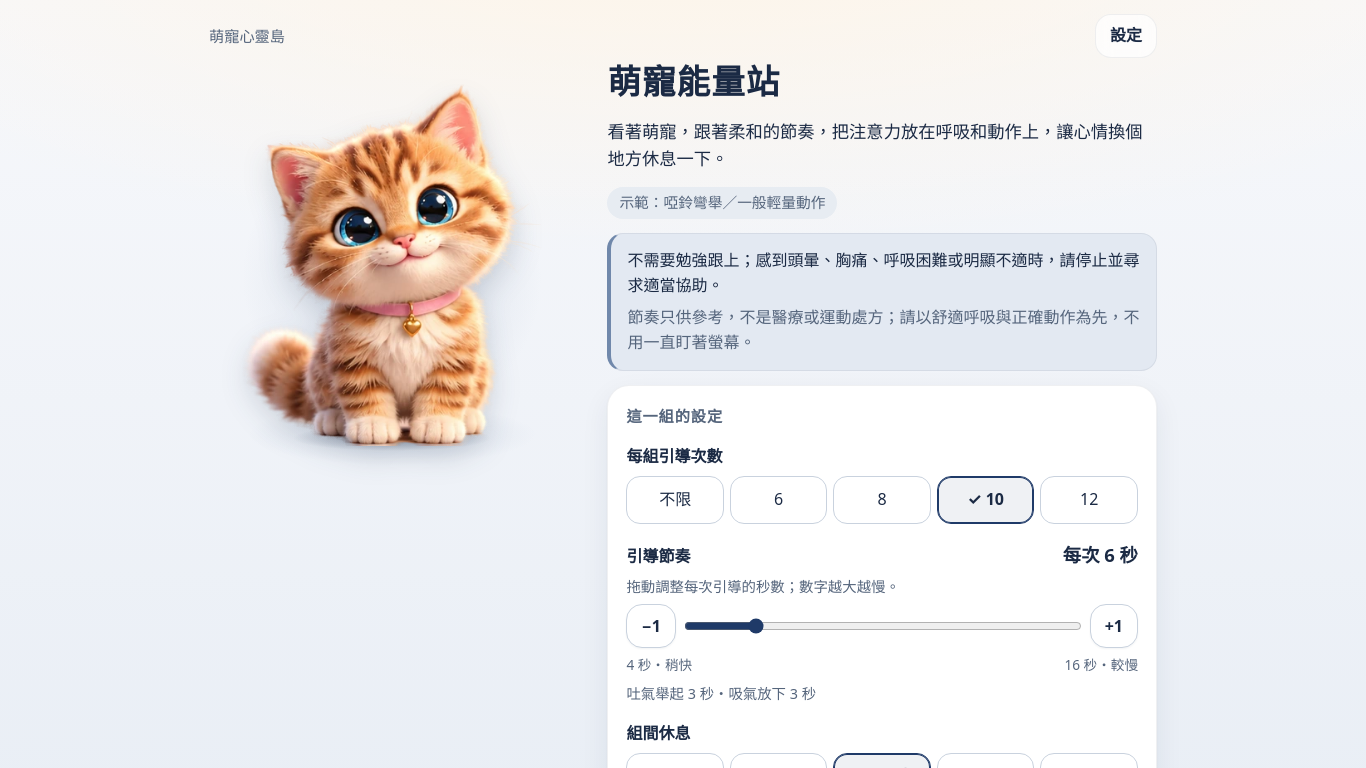
萌寵能量站：手指調整節奏 › −1／+1 秒按鈕一次調一格，到上下限時停用
Click the button named "增加 1 秒".
click(1114, 626)  # box [1090,604,1138,648]
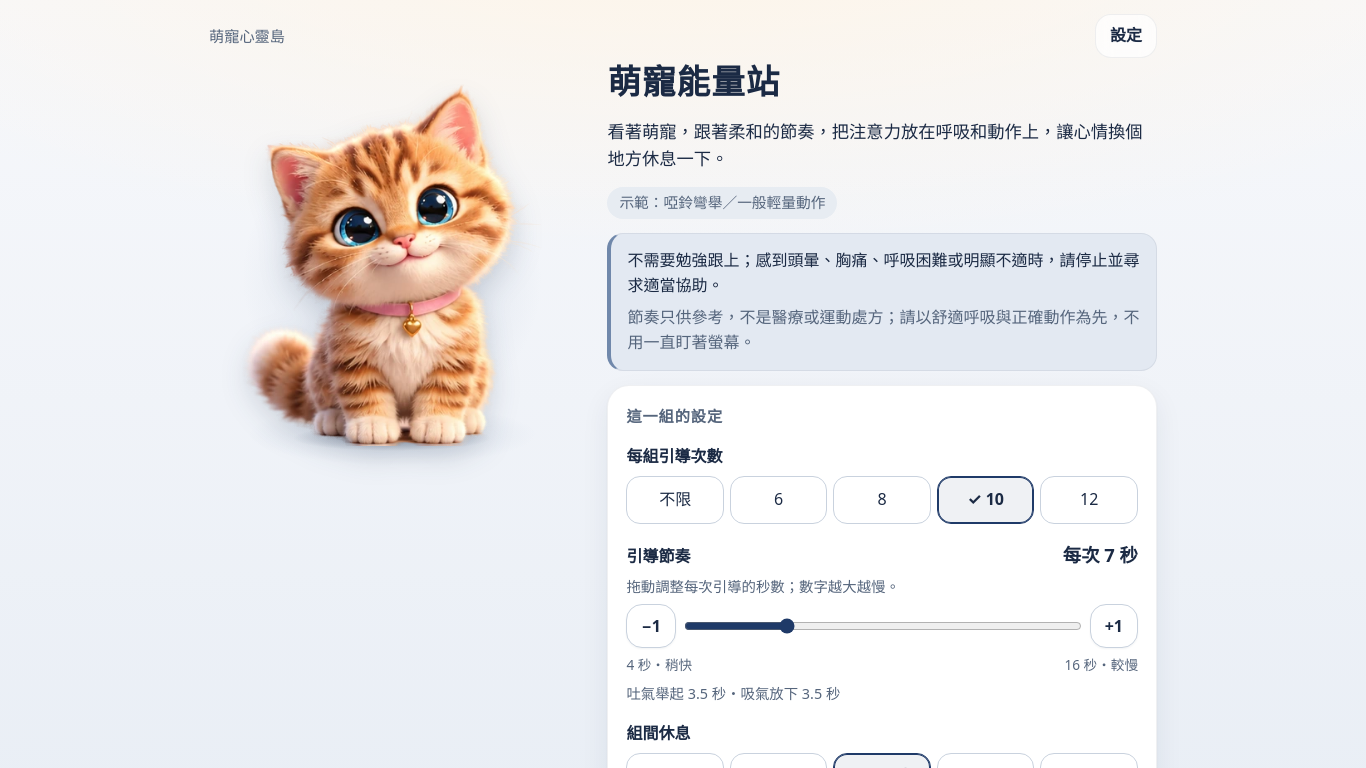
Check: the slider labelled "引導節奏" holds "7", box [684,604,1082,648]
Click the button named "減少 1 秒".
click(651, 626)  # box [626,604,676,648]
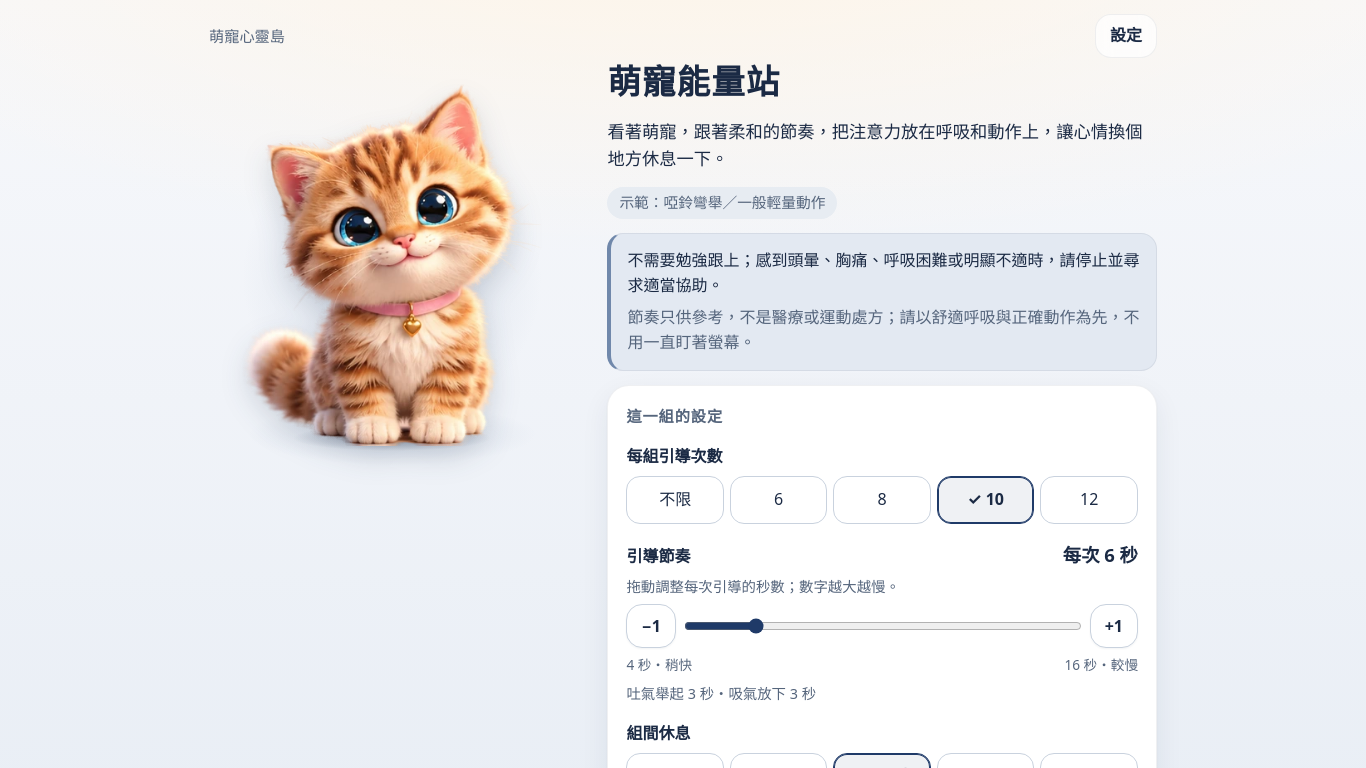
Click the button named "減少 1 秒".
click(651, 626)  # box [626,604,676,648]
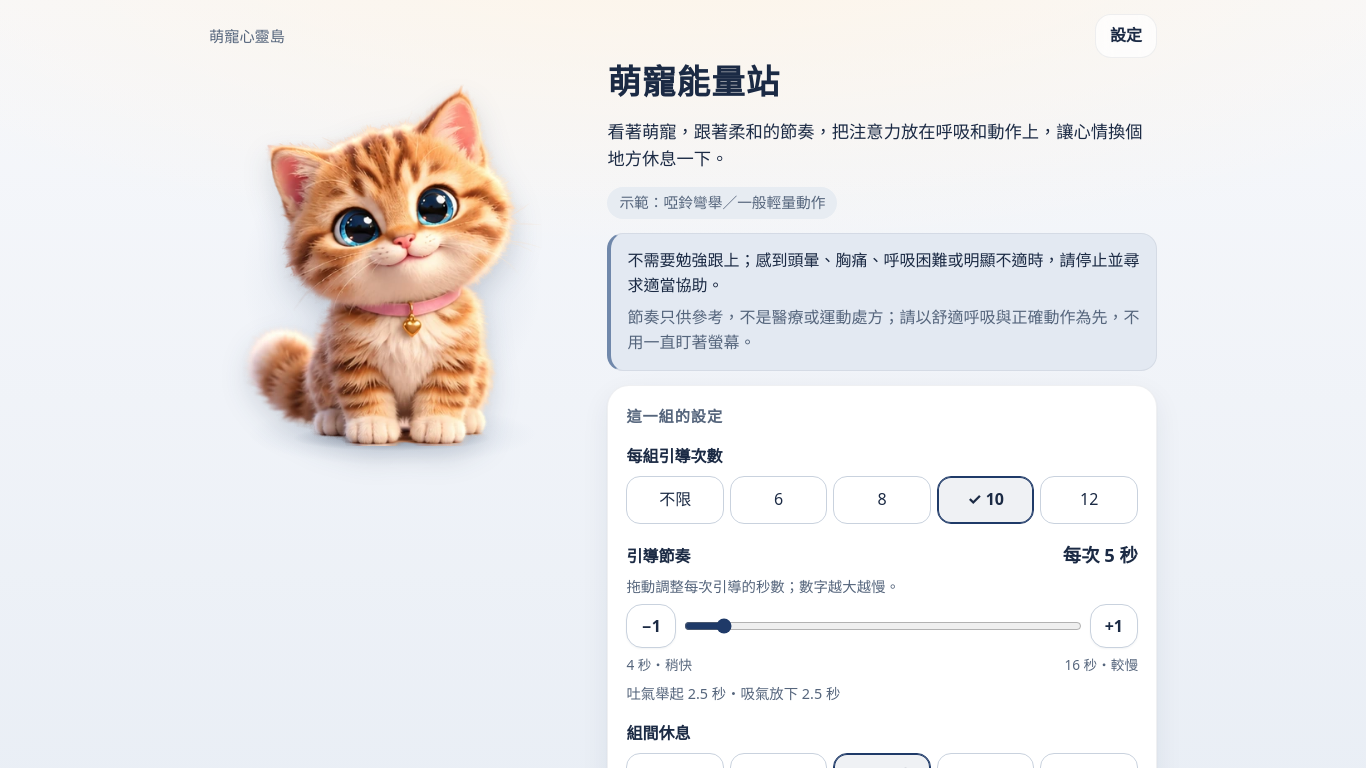
Click the button named "減少 1 秒".
click(651, 626)  # box [626,604,676,648]
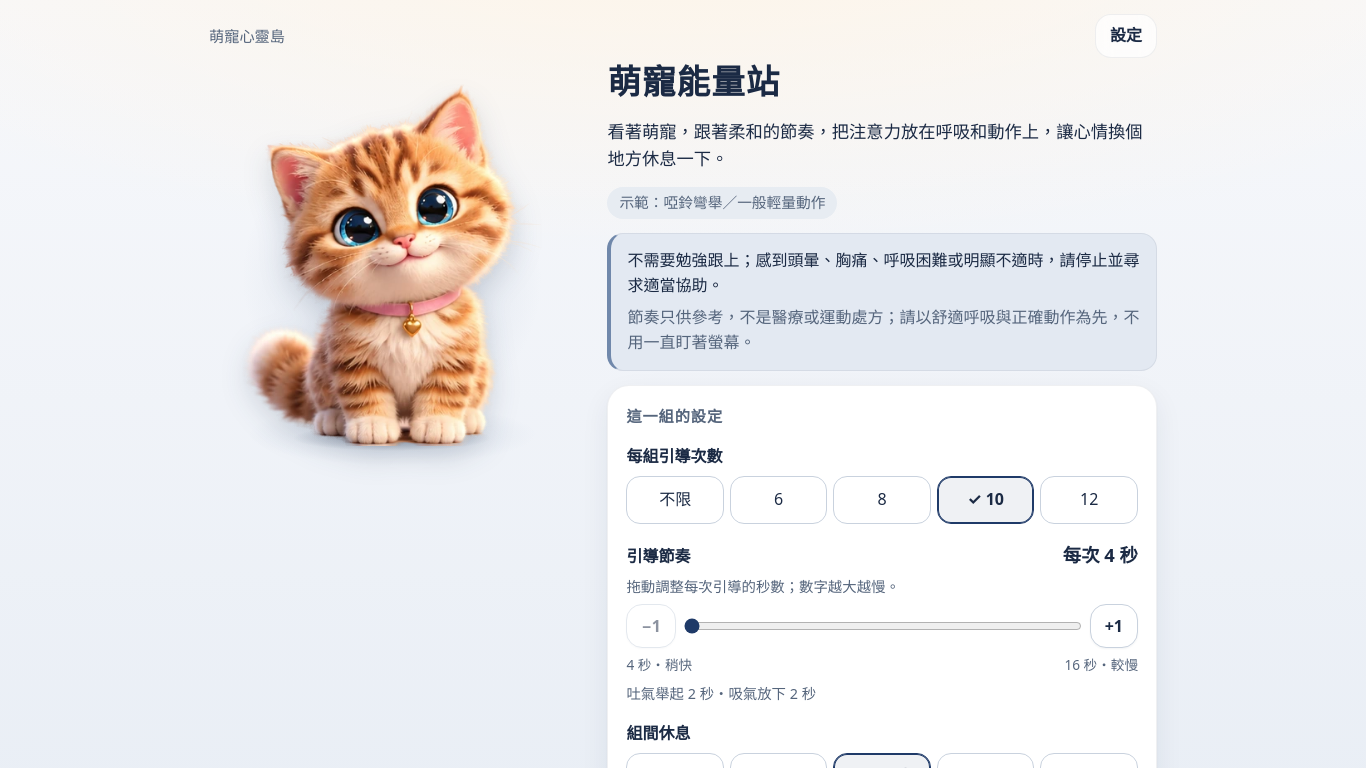
Check: the slider labelled "引導節奏" holds "4", box [684,604,1082,648]
Check: the button named "減少 1 秒" is disabled, box [626,604,676,648]
